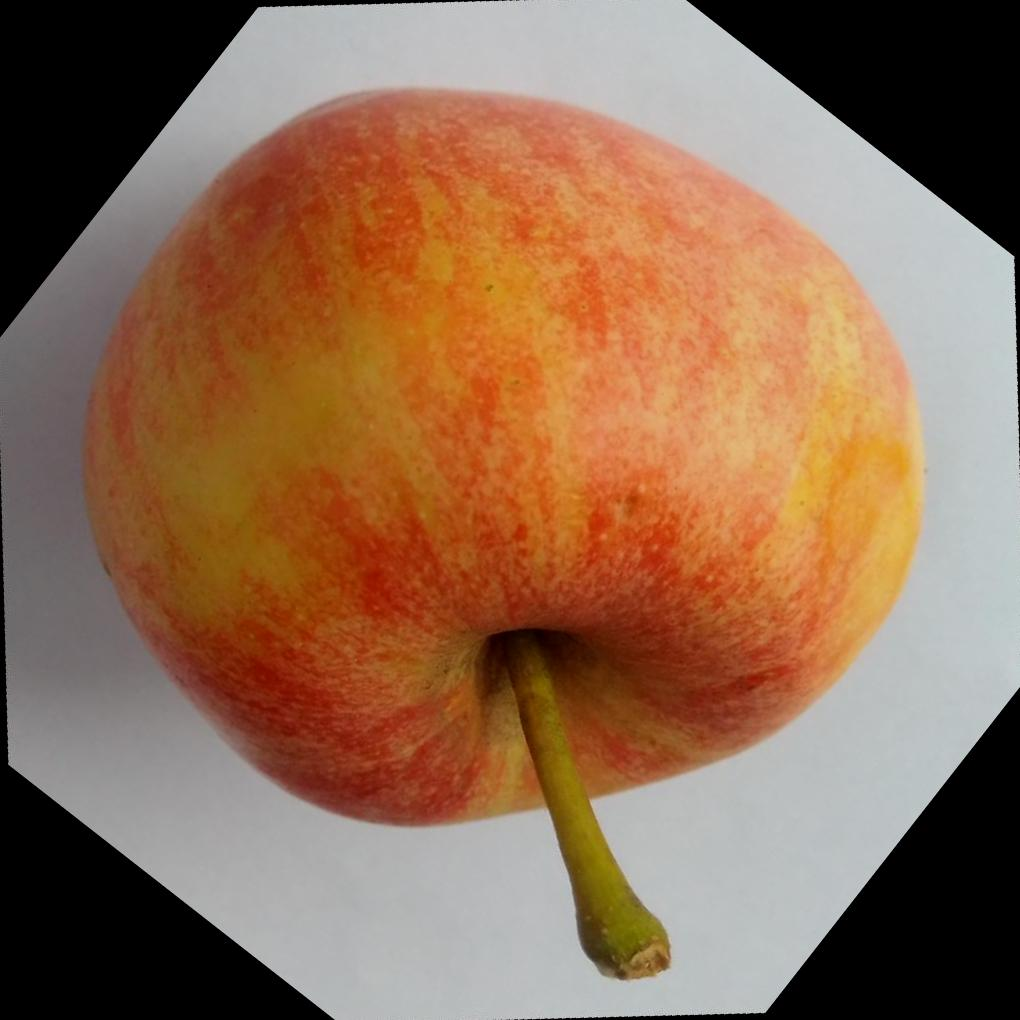FreshGuava: (75, 80, 926, 975)
